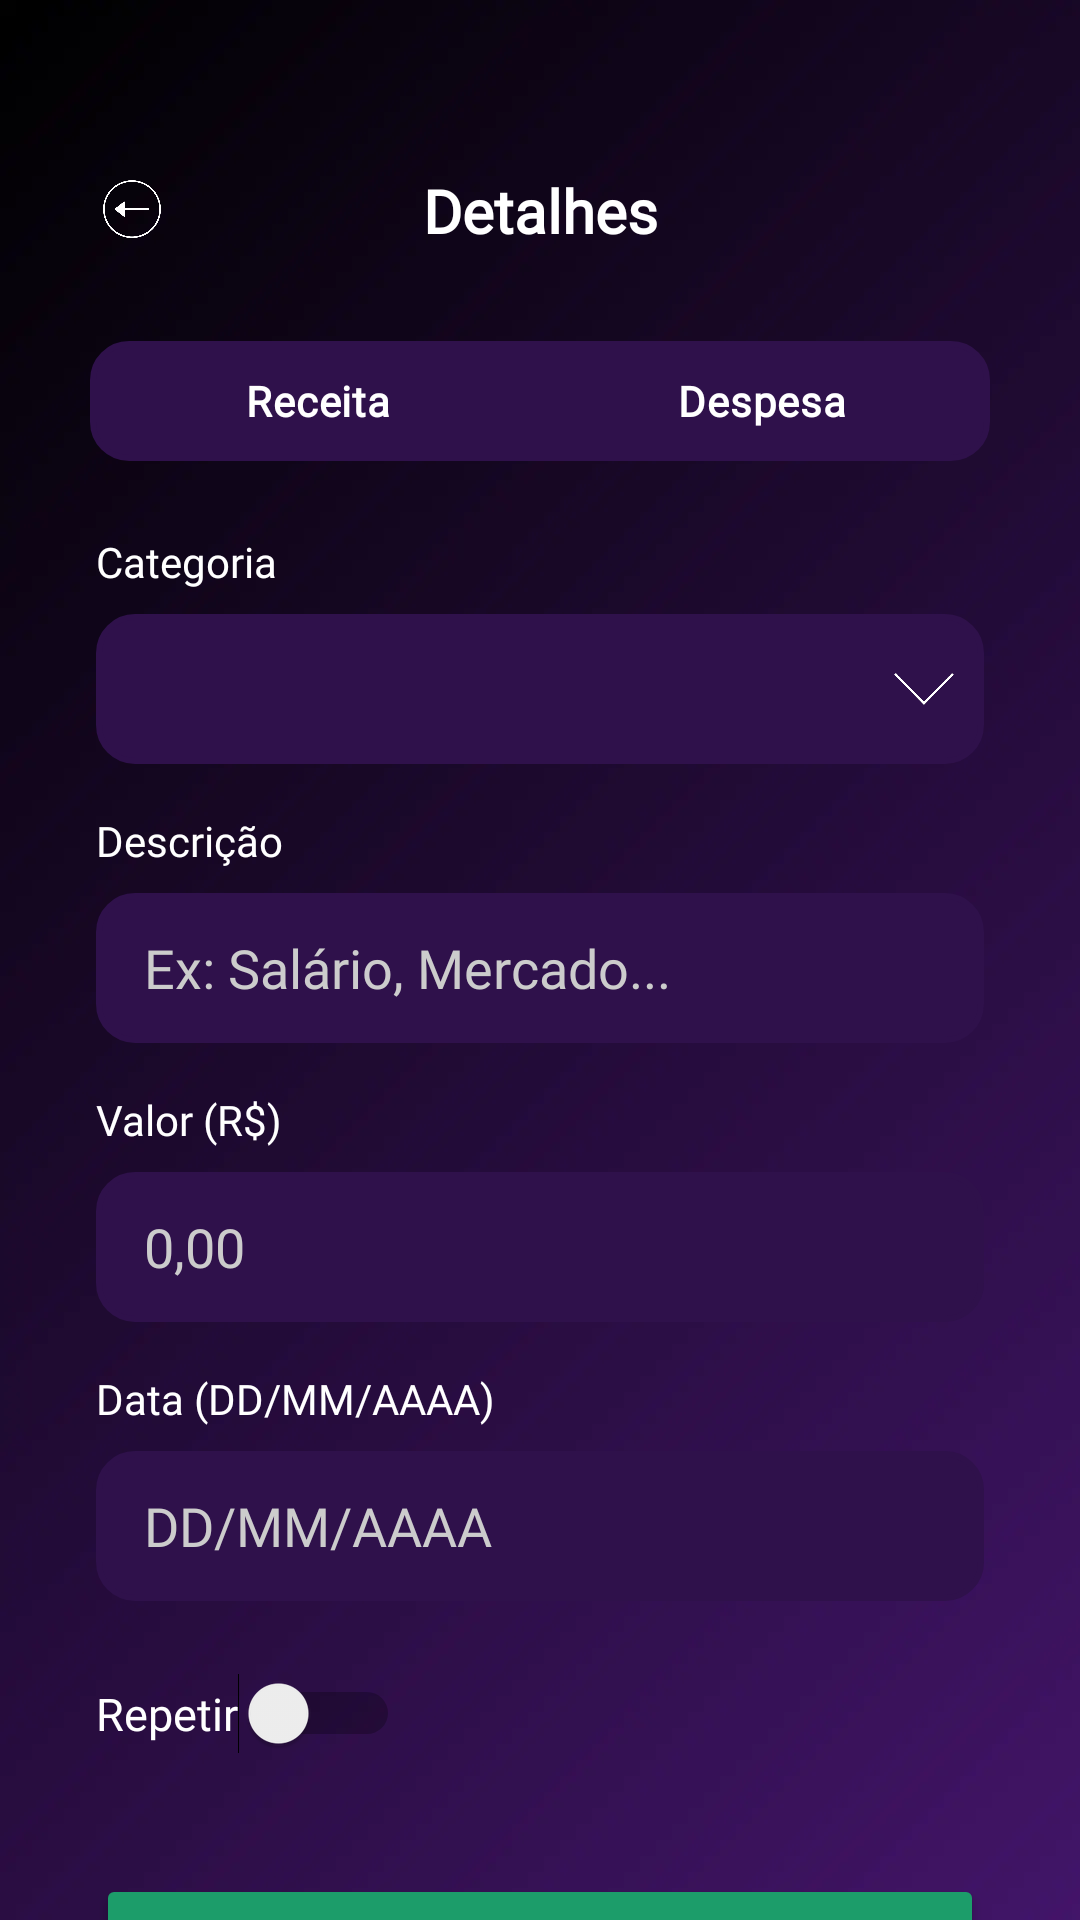

Icon click points for this 1080x1920 phone screenshot, format point (x, y):
seta spinner: point (924, 689)
Voltar: point (132, 209)
